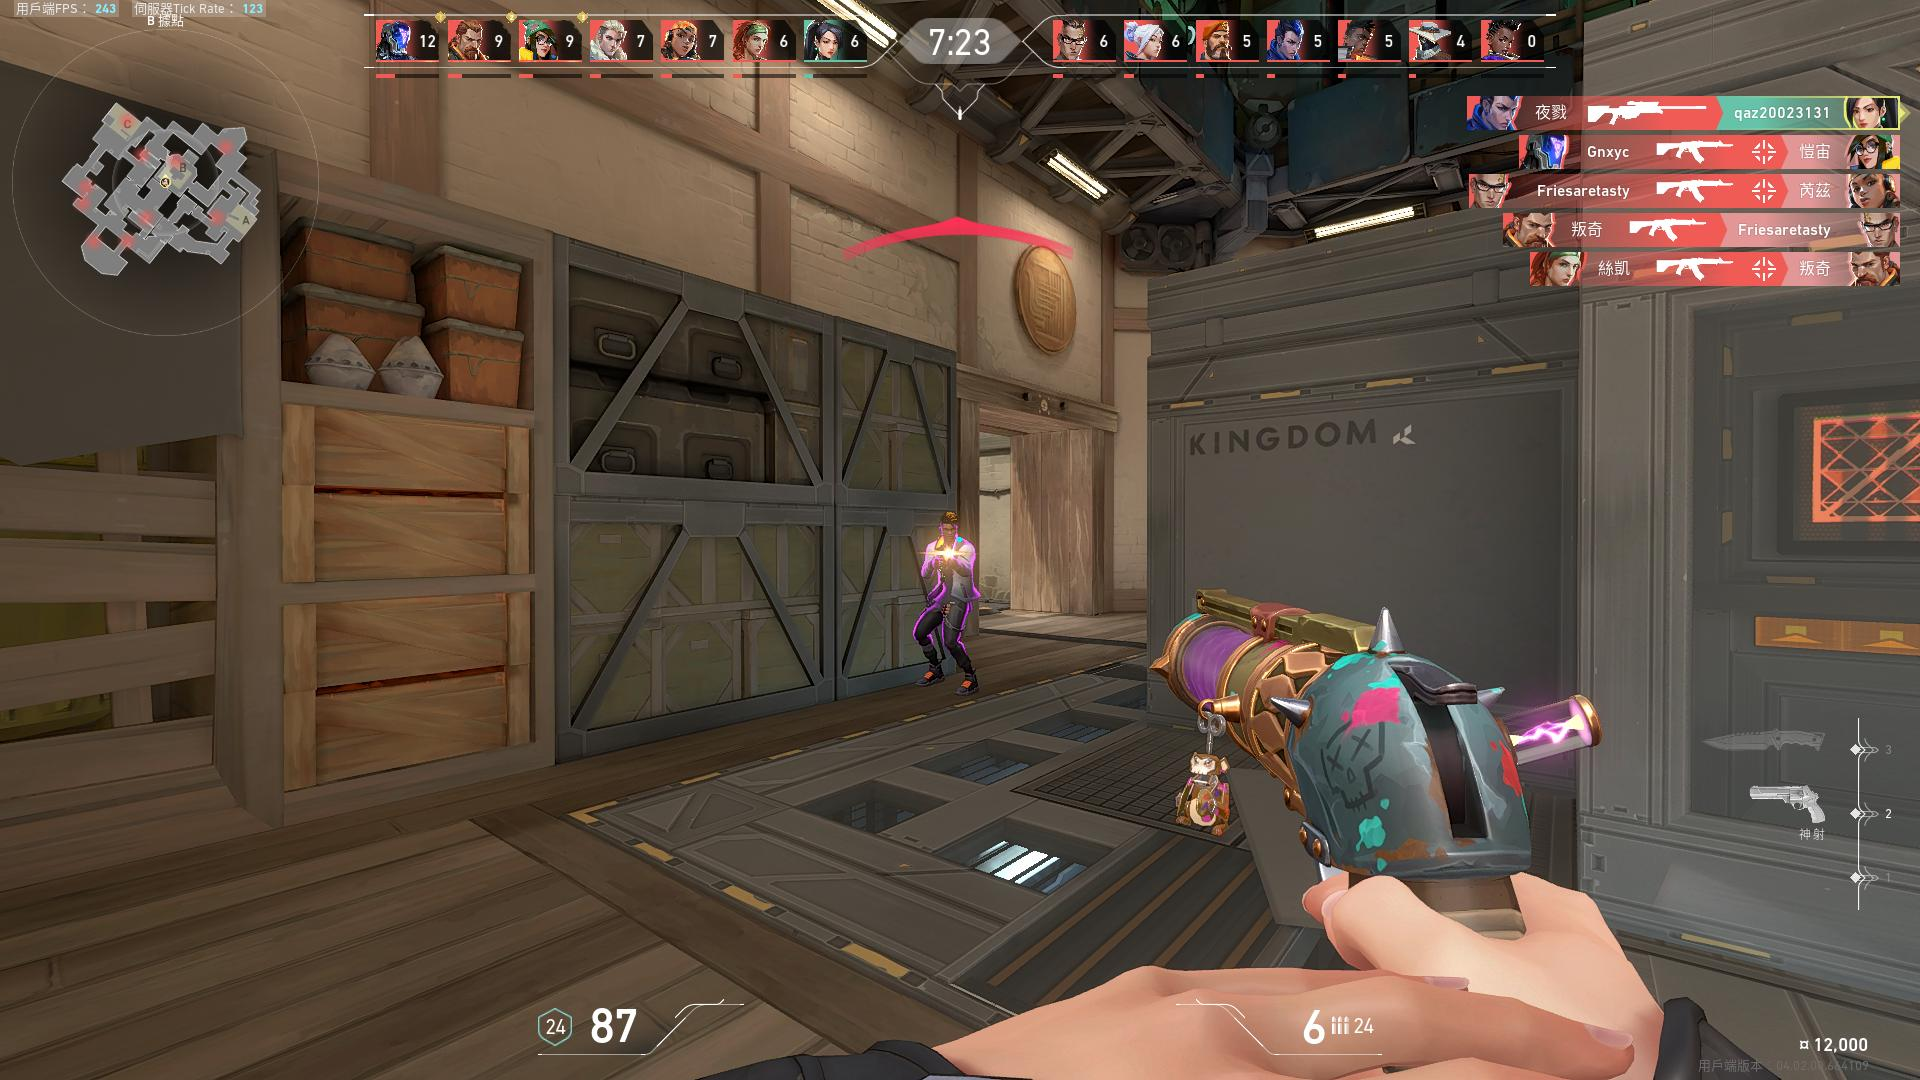enemyBody: (939, 545, 971, 593)
enemyHead: (943, 522, 955, 538)
